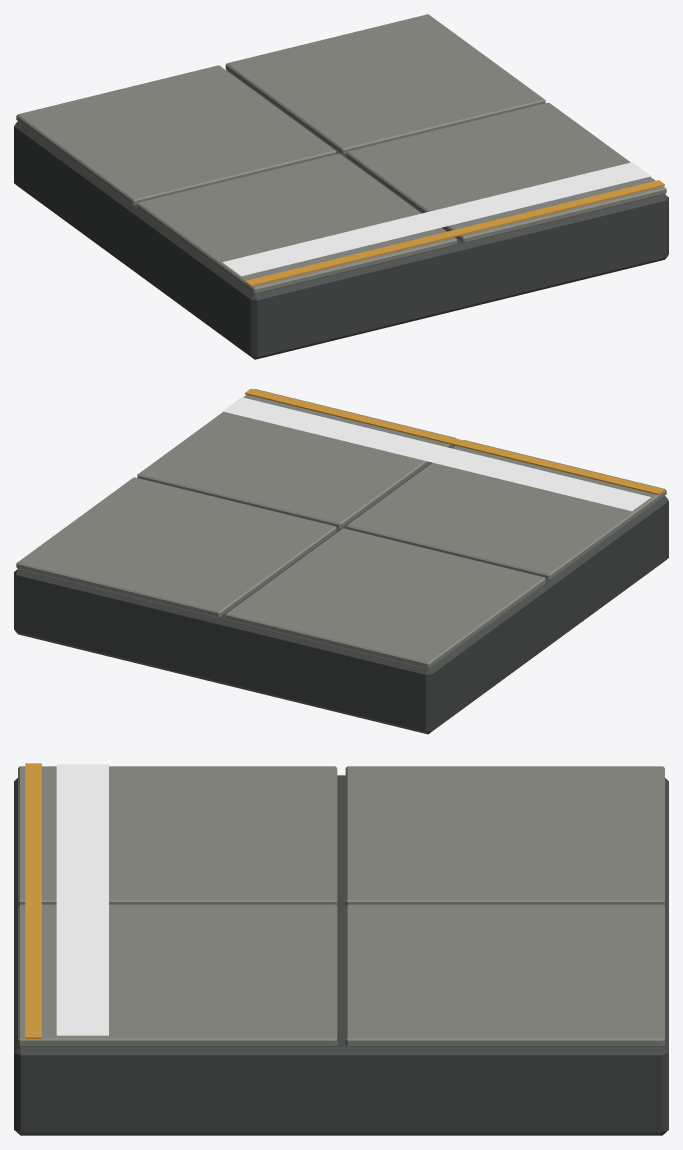
File: floor-cell-edge.glb
3 views of the same model, one above another, from view 1: azimuth 30°, elevation 25°; view 2: azimuth 150°, elevation 25°; view 3: azimuth 270°, elevation 25° (orthographic). The views are drawn at different scales.
Parts seen in each view (by area): view 1: floor-cell-edge__floor-cell-edge__concrete, floor-cell-edge__floor-cell-edge__concrete-dark, floor-cell-edge__floor-cell-edge__decal-hazard, floor-cell-edge__floor-cell-edge__amber; view 2: floor-cell-edge__floor-cell-edge__concrete, floor-cell-edge__floor-cell-edge__concrete-dark, floor-cell-edge__floor-cell-edge__decal-hazard, floor-cell-edge__floor-cell-edge__amber; view 3: floor-cell-edge__floor-cell-edge__concrete, floor-cell-edge__floor-cell-edge__concrete-dark, floor-cell-edge__floor-cell-edge__decal-hazard, floor-cell-edge__floor-cell-edge__amber.
Part boxes in pixels (x1,y1,x2,y2): floor-cell-edge__floor-cell-edge__concrete: (16,14,666,294); floor-cell-edge__floor-cell-edge__concrete-dark: (14,70,668,359); floor-cell-edge__floor-cell-edge__decal-hazard: (222,162,650,276); floor-cell-edge__floor-cell-edge__amber: (245,180,664,286); floor-cell-edge__floor-cell-edge__concrete: (16,389,666,668); floor-cell-edge__floor-cell-edge__concrete-dark: (14,445,668,734); floor-cell-edge__floor-cell-edge__decal-hazard: (222,397,650,511); floor-cell-edge__floor-cell-edge__amber: (245,388,664,494); floor-cell-edge__floor-cell-edge__concrete: (18,766,664,1046); floor-cell-edge__floor-cell-edge__concrete-dark: (14,775,668,1135); floor-cell-edge__floor-cell-edge__decal-hazard: (56,764,108,1035); floor-cell-edge__floor-cell-edge__amber: (25,763,41,1038).
Bounding box in the file's own units: 2 × 0.337 × 2.
